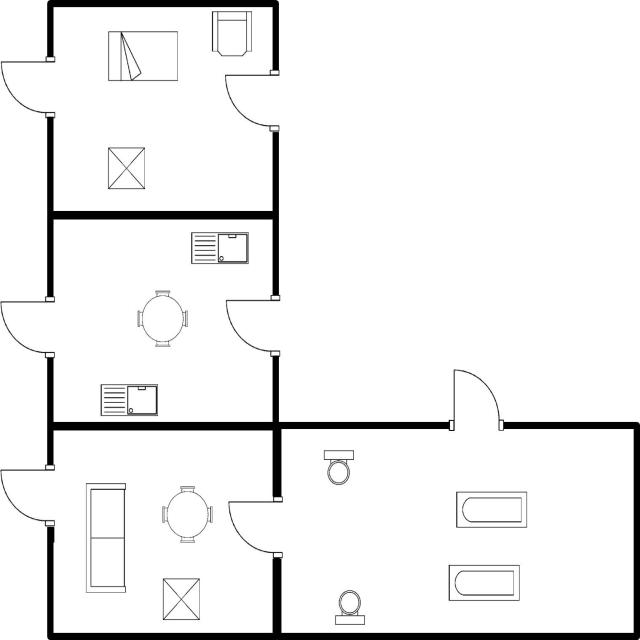armchair: (206, 7, 256, 60)
bed: (102, 26, 182, 86)
coffee_table: (102, 144, 150, 193), (158, 573, 202, 625)
large_sink: (330, 585, 370, 628), (318, 445, 356, 488)
large_sofa: (82, 479, 130, 598)
round_table: (131, 286, 193, 350), (158, 482, 218, 546)
sink: (96, 378, 162, 421), (188, 228, 254, 270)
tub: (442, 559, 525, 605), (451, 487, 531, 533)
